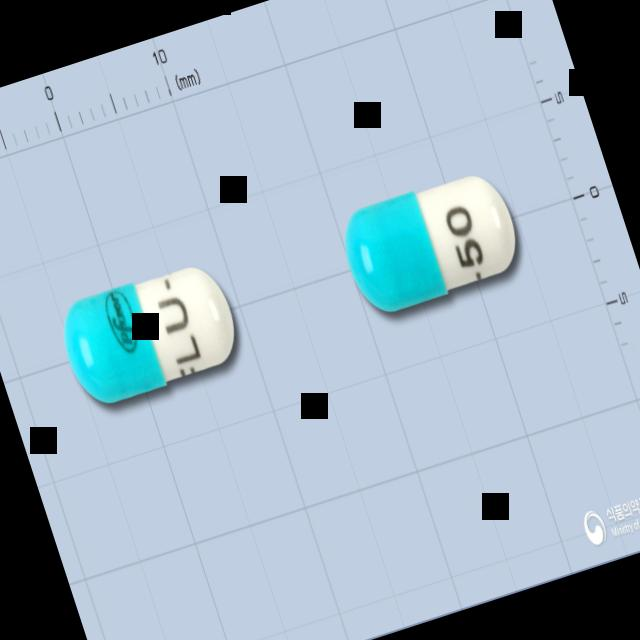Cipaxin: (51, 253, 248, 413), (332, 162, 528, 322)
